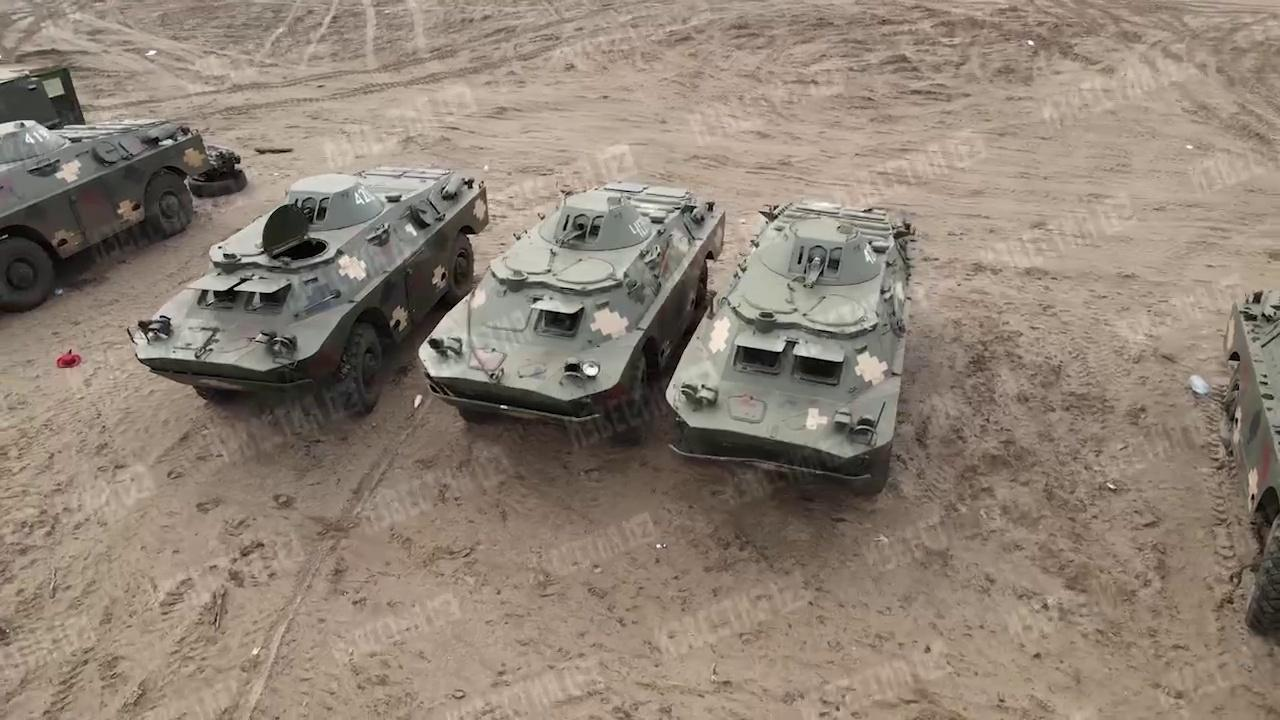tank: (126, 162, 493, 424), (418, 178, 728, 428), (668, 198, 922, 496), (0, 112, 210, 315), (1205, 283, 1280, 638)
